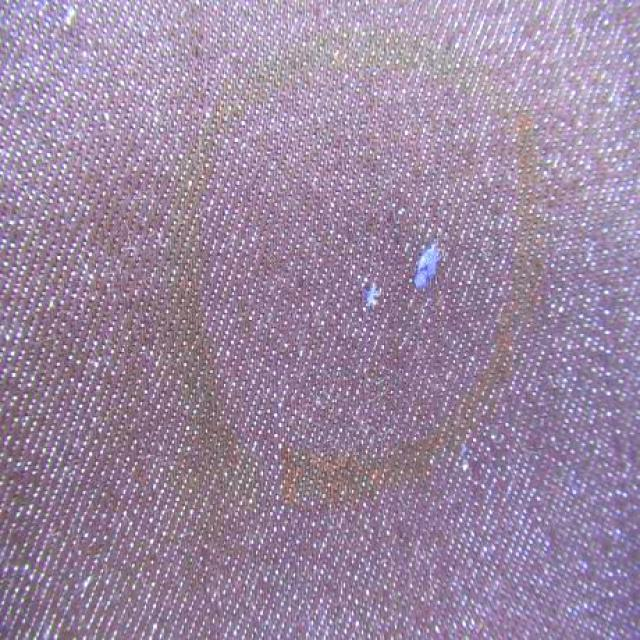Thread_other: (260, 142, 488, 380)
